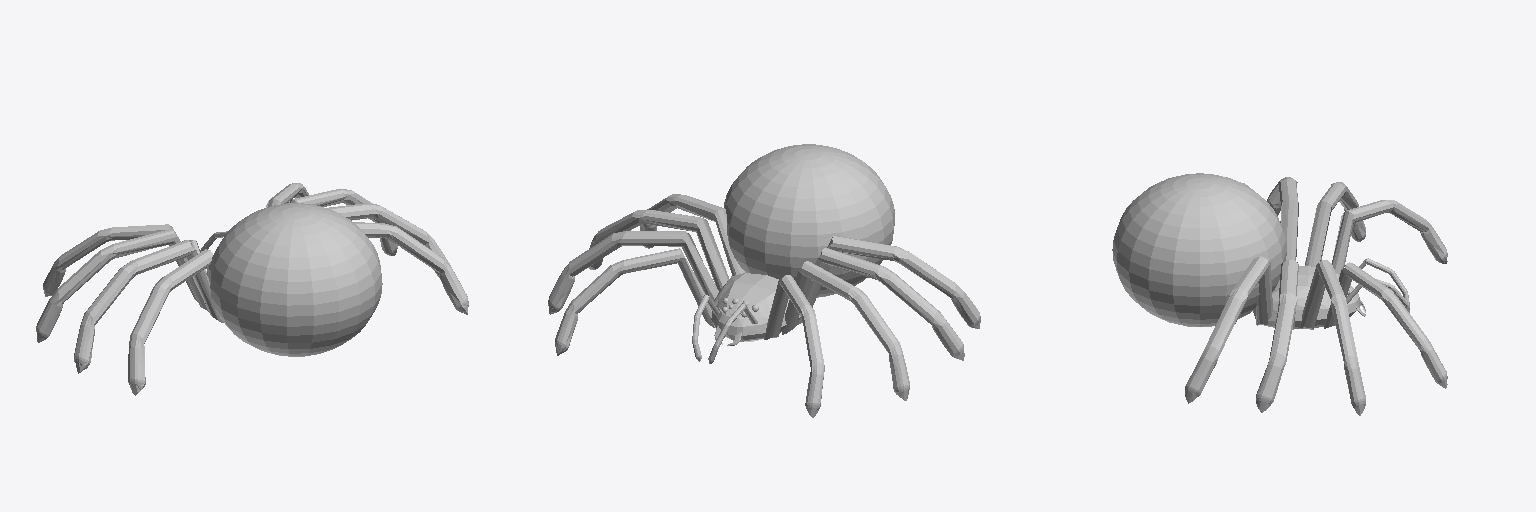
Rendered from Spider.obj.
The picture shows the model from 3 angles: view 1: azimuth 30°, elevation 25°; view 2: azimuth 150°, elevation 25°; view 3: azimuth 270°, elevation 25°; orthographic projection.
Parts seen in each view (by area): view 1: Body, polySurface8, polySurface7, polySurface5, polySurface6; view 2: Body, polySurface5, polySurface6, polySurface7, polySurface8, Head, HeadLeg; view 3: Body, polySurface5, polySurface6, polySurface7, polySurface8, Head, HeadLeg.
Part boxes in pixels (left/top/right/bottom): Body: left=209, top=203, right=382, bottom=356; polySurface8: left=128, top=222, right=468, bottom=395; polySurface7: left=74, top=203, right=451, bottom=373; polySurface5: left=36, top=189, right=397, bottom=342; polySurface6: left=43, top=183, right=308, bottom=301; Body: left=724, top=144, right=894, bottom=297; polySurface5: left=548, top=231, right=909, bottom=400; polySurface6: left=555, top=248, right=824, bottom=417; polySurface7: left=588, top=210, right=964, bottom=360; polySurface8: left=640, top=194, right=980, bottom=328; Head: left=711, top=273, right=800, bottom=341; HeadLeg: left=692, top=295, right=757, bottom=363; Body: left=1112, top=173, right=1286, bottom=326; polySurface5: left=1298, top=182, right=1365, bottom=415; polySurface6: left=1324, top=200, right=1447, bottom=388; polySurface7: left=1256, top=177, right=1298, bottom=412; polySurface8: left=1185, top=183, right=1272, bottom=403; Head: left=1253, top=266, right=1360, bottom=328; HeadLeg: left=1346, top=258, right=1409, bottom=312.
Size of the model in its own units: 19.52 by 7.27 by 15.09.